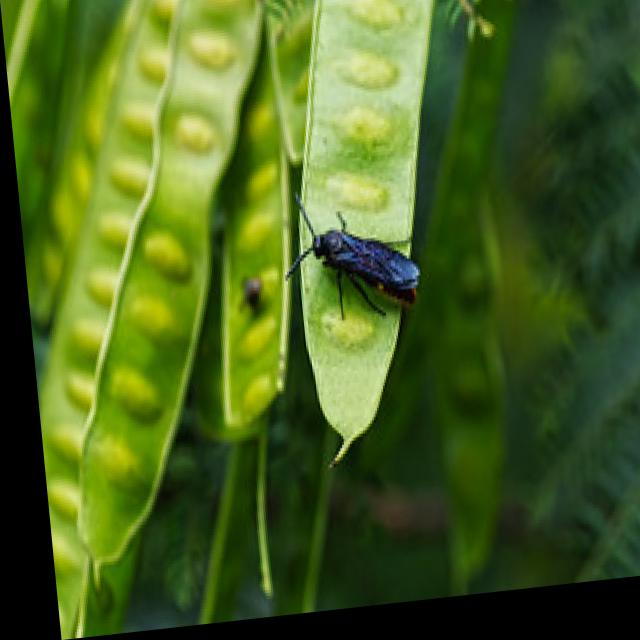Guepe: (276, 185, 444, 353)
